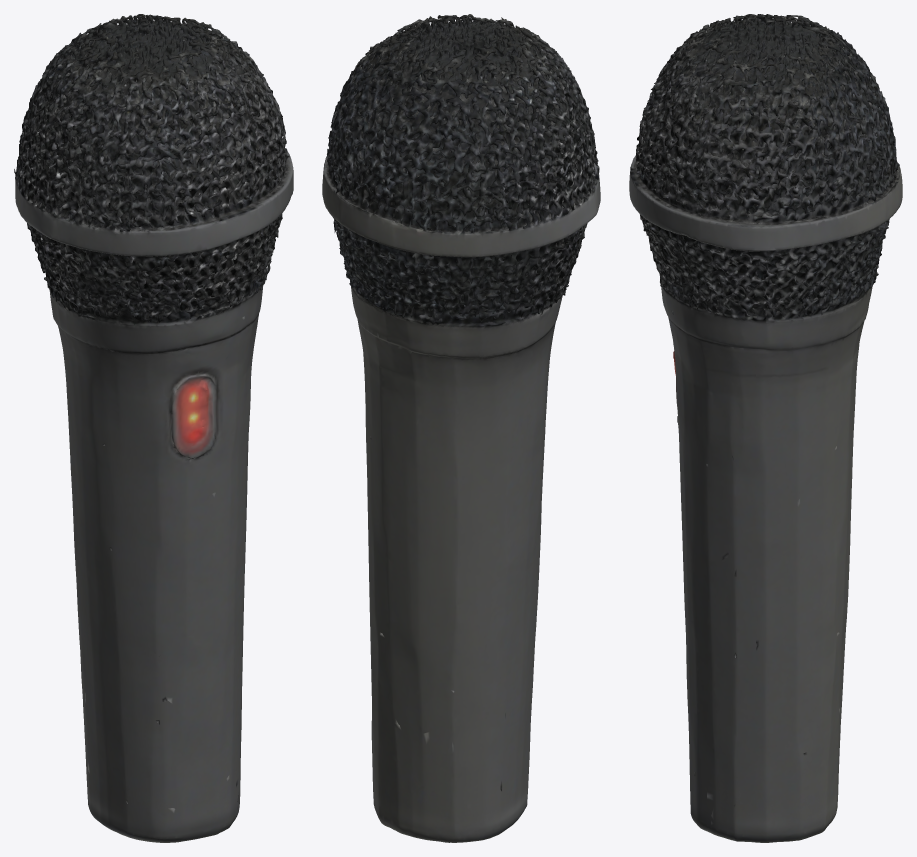
Rendered from Please_make_a_cordles_0712080754_texture.fbx.
The picture shows the model from 3 angles, left to right: view 1: azimuth 30°, elevation 25°; view 2: azimuth 150°, elevation 25°; view 3: azimuth 270°, elevation 25°; orthographic projection.
Visible parts, largest first — view 1: Mesh_0.004; view 2: Mesh_0.004; view 3: Mesh_0.004.
Boxes of the visible parts, bbox=[...] form: Mesh_0.004: bbox=[14, 14, 293, 842]; Mesh_0.004: bbox=[322, 14, 600, 842]; Mesh_0.004: bbox=[629, 14, 902, 842].
Bounding box in the file's own units: 64.78 × 199 × 63.74.
1 material, 1 textured.
